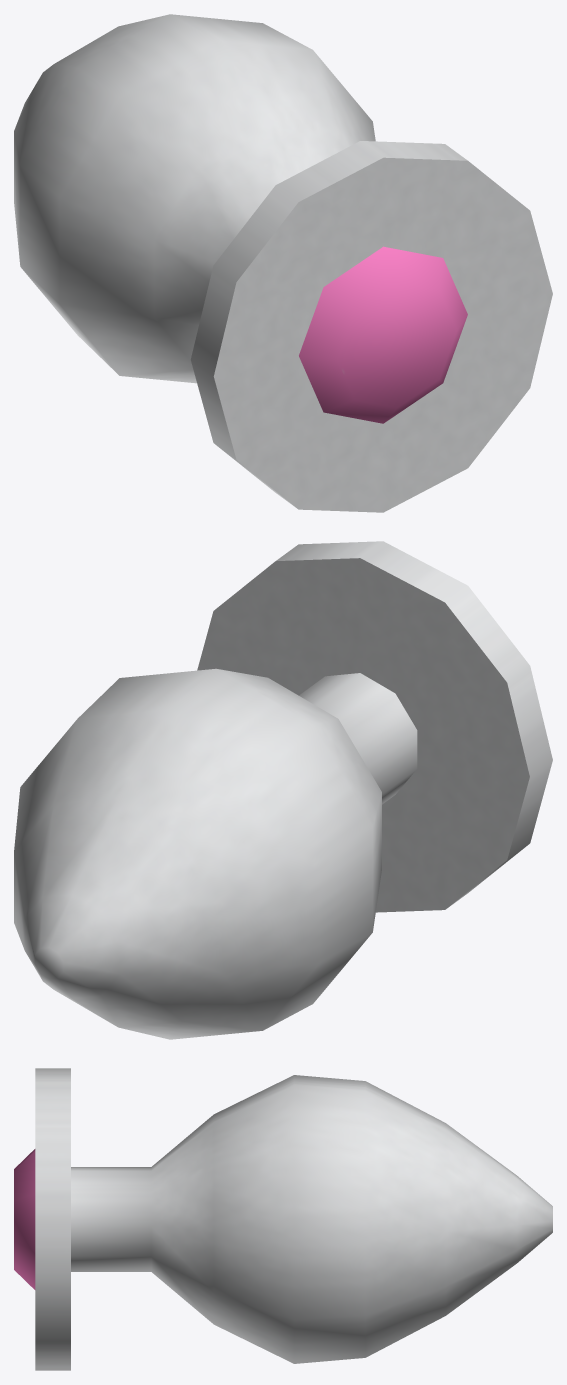
Rendered from butt_plug.glb.
3 renders of one model, top to bottom at view 1: azimuth 30°, elevation 25°; view 2: azimuth 150°, elevation 25°; view 3: azimuth 270°, elevation 25°, orthographic. The views are drawn at different scales.
Visible parts, largest first — view 1: x3_butt_plug; view 2: x3_butt_plug; view 3: x3_butt_plug.
Boxes of the visible parts, <box> form: x3_butt_plug: <box>14,14,552,512</box>; x3_butt_plug: <box>14,541,552,1039</box>; x3_butt_plug: <box>14,1068,552,1370</box>.
Bounding box in the file's own units: 0.034 × 0.034 × 0.0604.
1 material, 1 textured.
